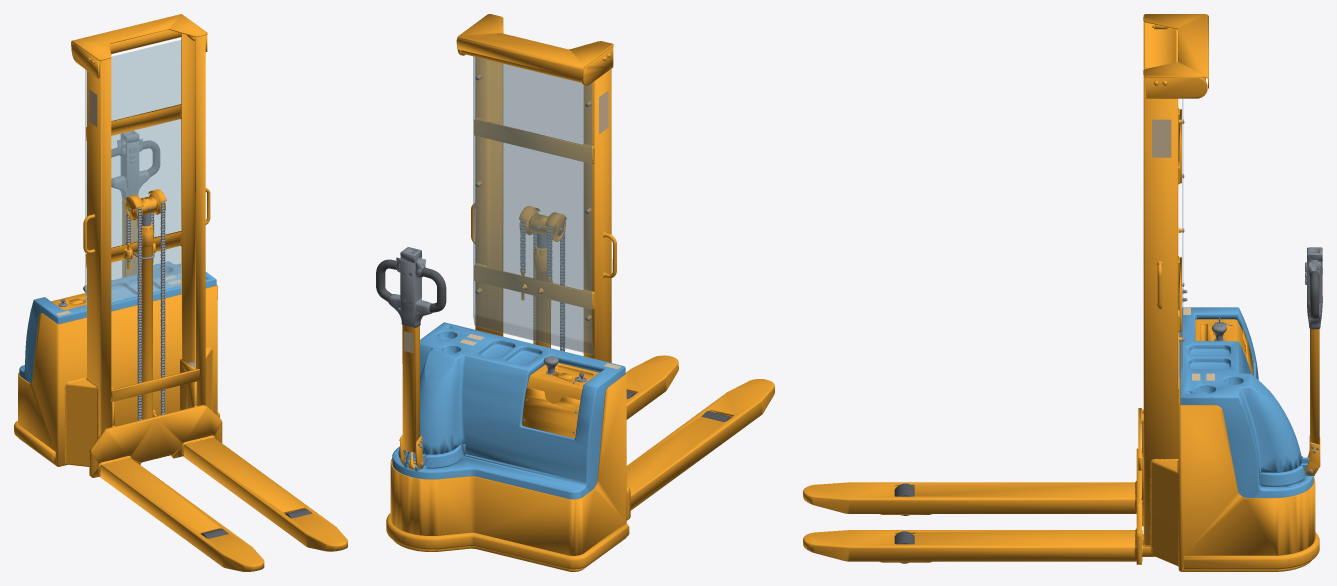
The model's file is vehicle_forklift_orange_a01.glb.
The picture shows the model from 3 angles, left to right: view 1: azimuth 30°, elevation 25°; view 2: azimuth 150°, elevation 25°; view 3: azimuth 270°, elevation 25°; orthographic projection. The views are drawn at different scales.
Visible parts, largest first — view 1: sm_body_a01_mesh_00.001, sm_fork_a01_mesh_00.001, sm_glass_a01_mesh_00.001, sm_rudder_a01_mesh_00.001; view 2: sm_body_a01_mesh_00.001, sm_glass_a01_mesh_00.001, sm_fork_a01_mesh_00.001, sm_rudder_a01_mesh_00.001, sm_ruddebase_a01_mesh_00.001; view 3: sm_body_a01_mesh_00.001, sm_fork_a01_mesh_00.001, sm_rudder_a01_mesh_00.001, sm_ruddebase_a01_mesh_00.001, sm_glass_a01_mesh_00.001.
Part boxes in pixels (x1=…): sm_body_a01_mesh_00.001: x1=14, y1=14, x2=302, y2=534; sm_fork_a01_mesh_00.001: x1=89, y1=359, x2=347, y2=571; sm_glass_a01_mesh_00.001: x1=85, y1=40, x2=181, y2=307; sm_rudder_a01_mesh_00.001: x1=111, y1=130, x2=159, y2=277; sm_body_a01_mesh_00.001: x1=386, y1=14, x2=732, y2=571; sm_glass_a01_mesh_00.001: x1=473, y1=56, x2=593, y2=354; sm_fork_a01_mesh_00.001: x1=626, y1=355, x2=774, y2=520; sm_rudder_a01_mesh_00.001: x1=376, y1=247, x2=446, y2=469; sm_ruddebase_a01_mesh_00.001: x1=398, y1=444, x2=463, y2=471; sm_body_a01_mesh_00.001: x1=880, y1=14, x2=1319, y2=571; sm_fork_a01_mesh_00.001: x1=803, y1=408, x2=1143, y2=564; sm_rudder_a01_mesh_00.001: x1=1305, y1=247, x2=1322, y2=475; sm_ruddebase_a01_mesh_00.001: x1=1259, y1=456, x2=1314, y2=486; sm_glass_a01_mesh_00.001: x1=1179, y1=99, x2=1183, y2=377.
Size of the model in its own units: 0.8219 by 1.96 by 1.89.
